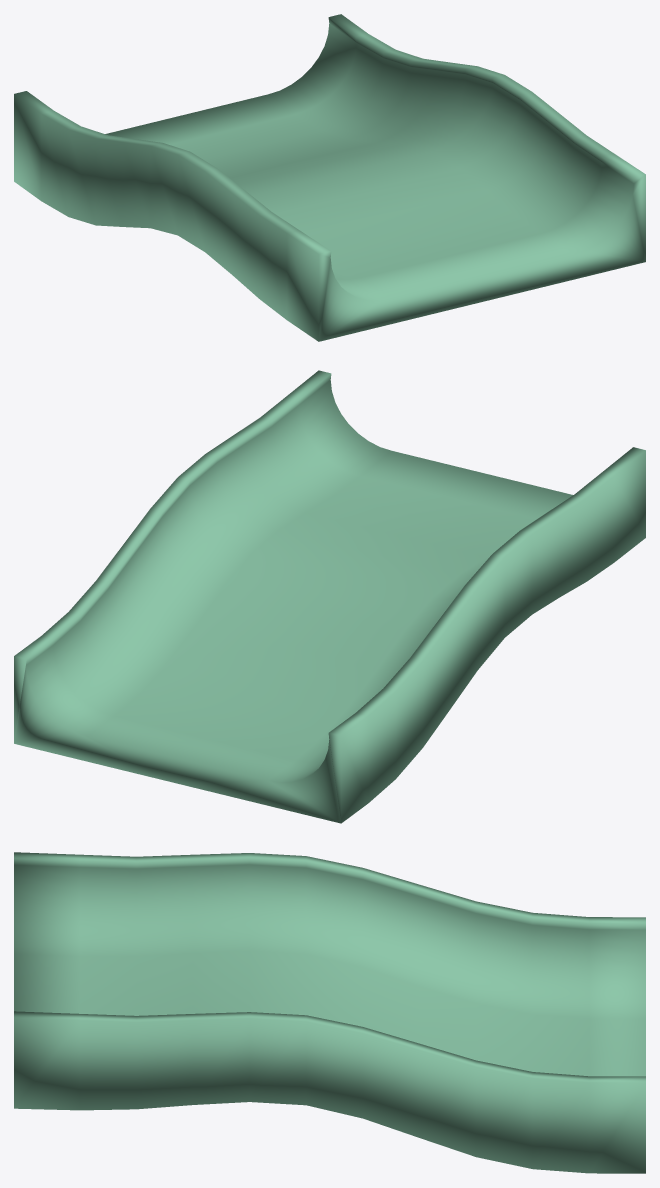
The model's file is HillTrack.glb.
3 renders of one model, top to bottom at view 1: azimuth 30°, elevation 25°; view 2: azimuth 150°, elevation 25°; view 3: azimuth 270°, elevation 25°, orthographic. The views are drawn at different scales.
Parts seen in each view (by area): view 1: Track; view 2: Track; view 3: Track.
Boxes of the visible parts, x1,y1,x2,y2 form: Track: (14, 14, 645, 341); Track: (14, 370, 645, 823); Track: (14, 852, 645, 1173).
Bounding box in the file's own units: 46.5 × 20.42 × 75.
